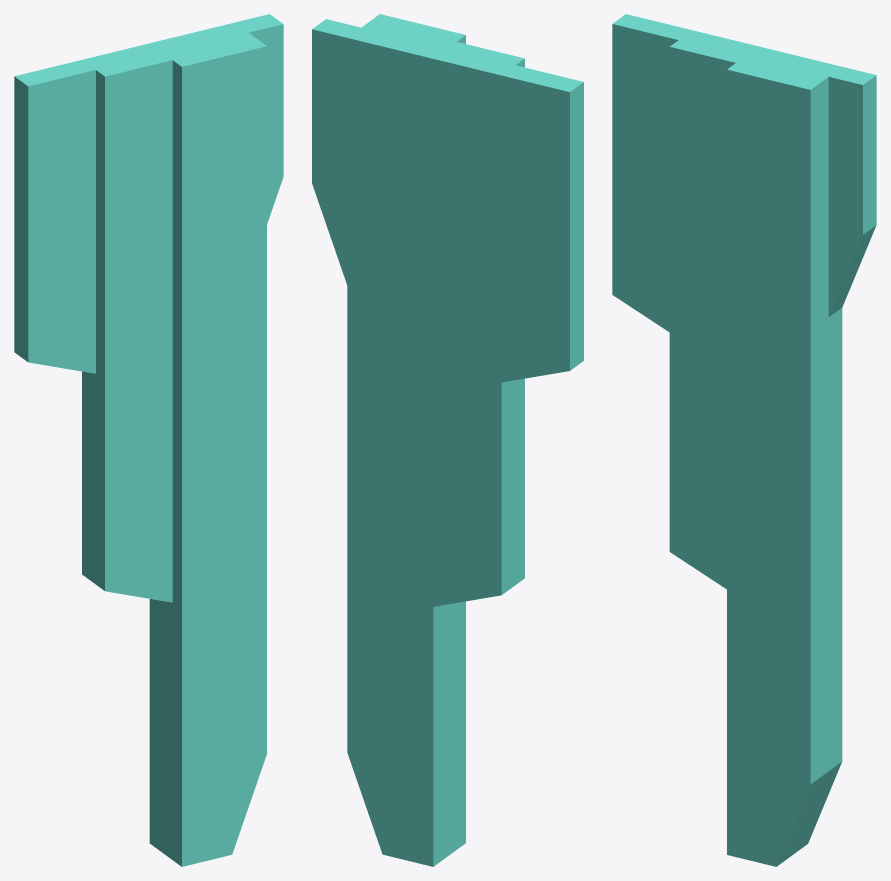
The model's file is hanging_moss.gltf.
The picture shows the model from 3 angles, left to right: view 1: azimuth 30°, elevation 25°; view 2: azimuth 150°, elevation 25°; view 3: azimuth 330°, elevation 25°; orthographic projection. The views are drawn at different scales.
Visible parts, largest first — view 1: hanging_moss; view 2: hanging_moss; view 3: hanging_moss.
Boxes of the visible parts, x1,y1,x2,y2 form: hanging_moss: [14, 14, 283, 866]; hanging_moss: [312, 14, 583, 866]; hanging_moss: [612, 14, 876, 866].
Size of the model in its own units: 0.1598 by 0.4785 by 0.035.
